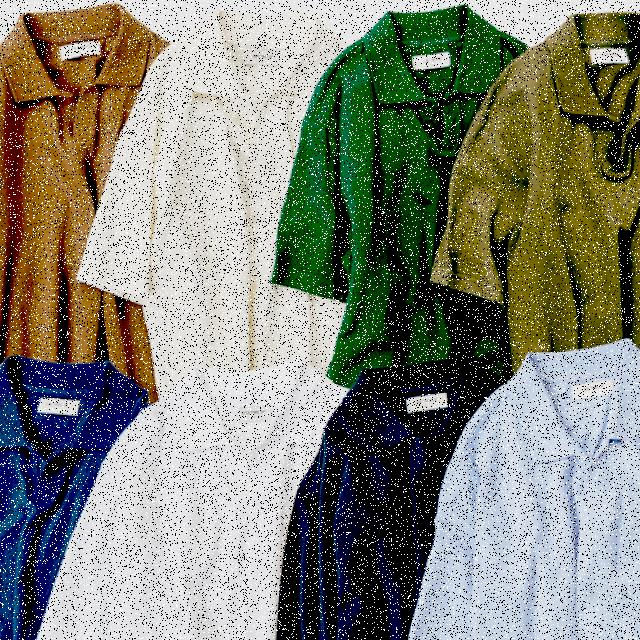dress: (77, 3, 338, 373), (270, 0, 518, 379)
